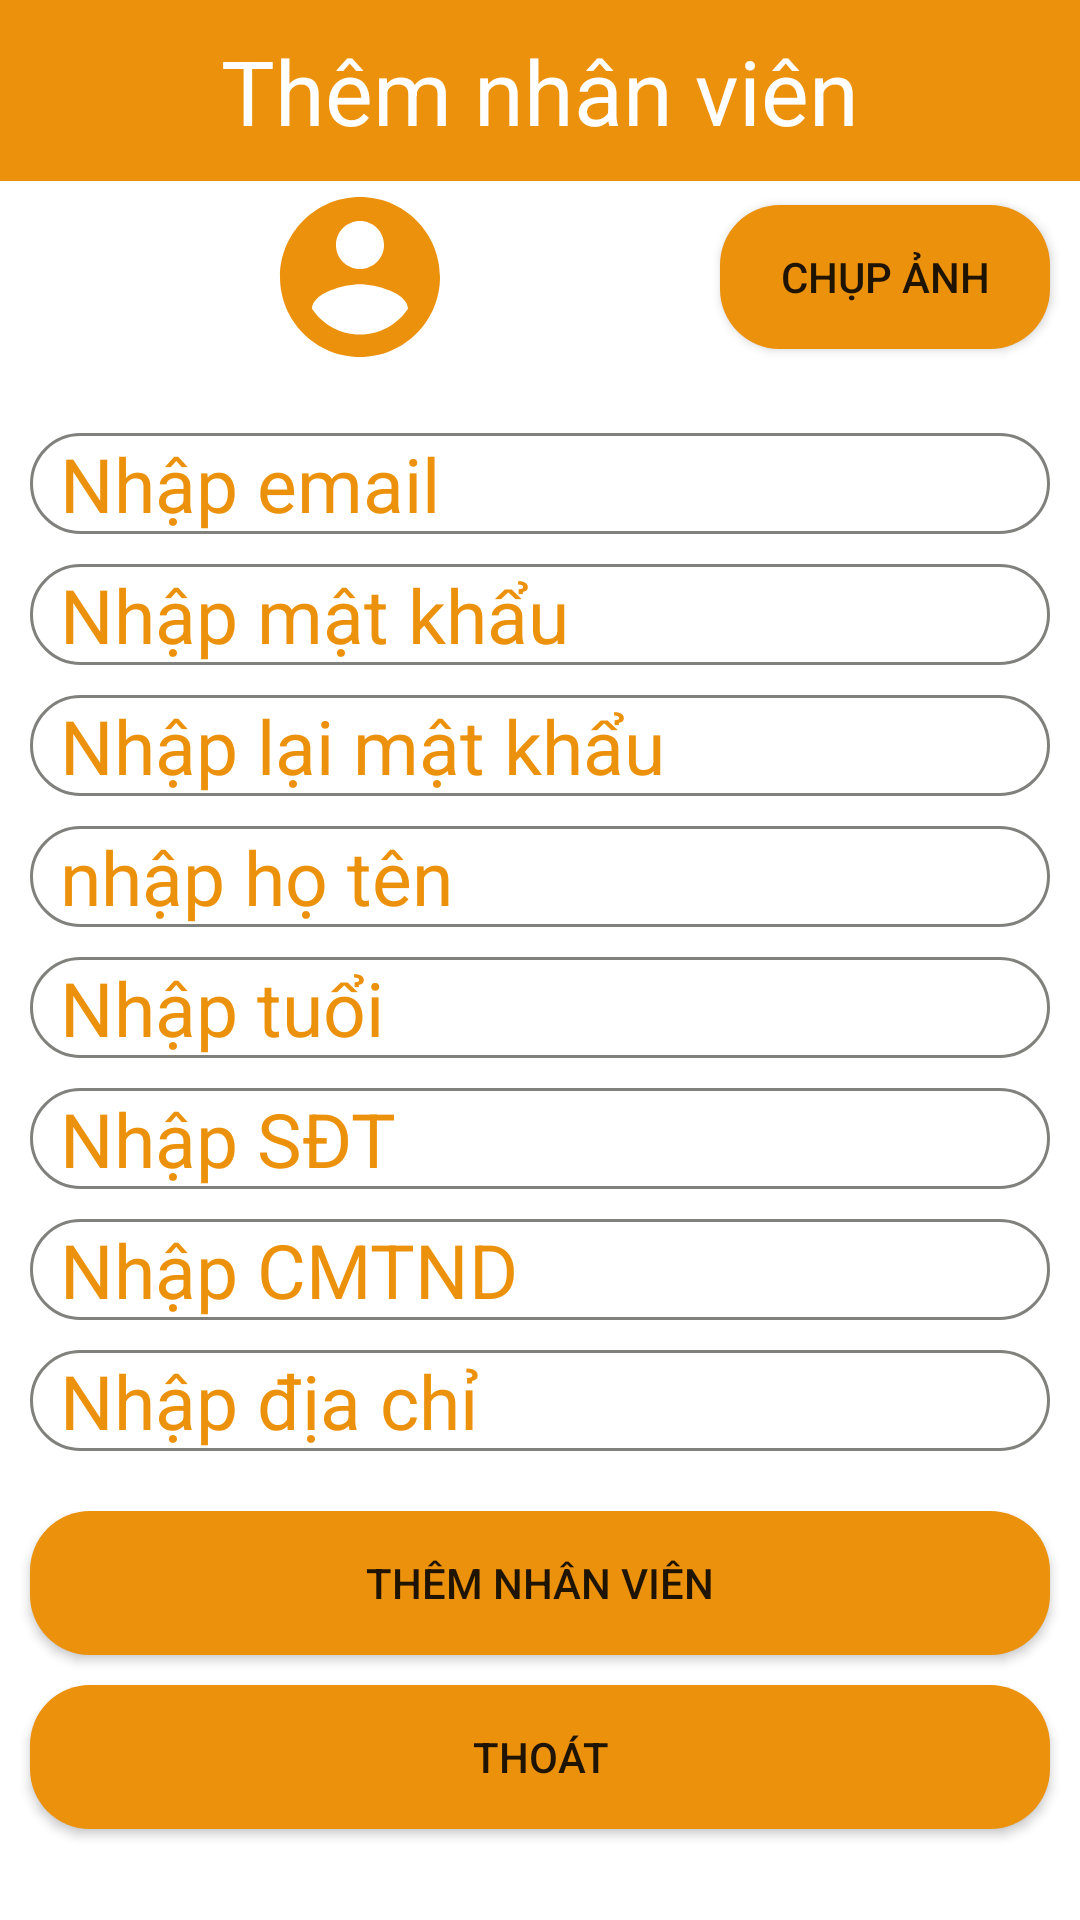

Screen size 1080px×1920px. Icon name, then its center in pixels as (x,y):
account avt: (360,277)
